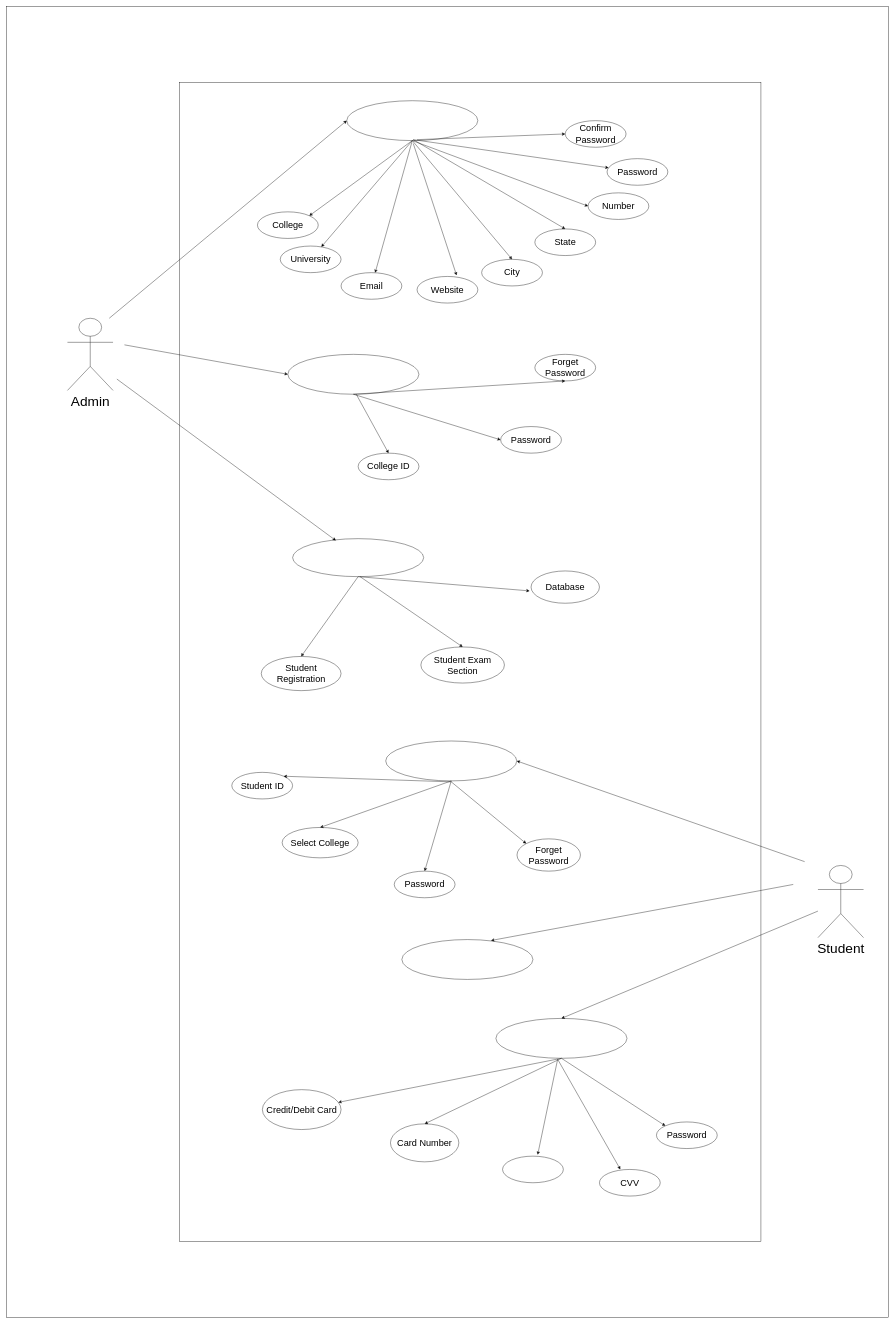
The diagram is 895 pixels wide and 1324 high, and some of its shapes have lost their labels. Here are the shapes that lost their labels. From the top down, the box of each, then its label:
(346, 100, 478, 141): Admin Registration
(287, 354, 419, 394): Admin Login
(292, 538, 424, 577): Dashboard
(385, 741, 517, 781): Student Login
(401, 939, 533, 979): Online Exam Form
(496, 1018, 627, 1058): Online Payment
(502, 1156, 563, 1183): Expiry Date
